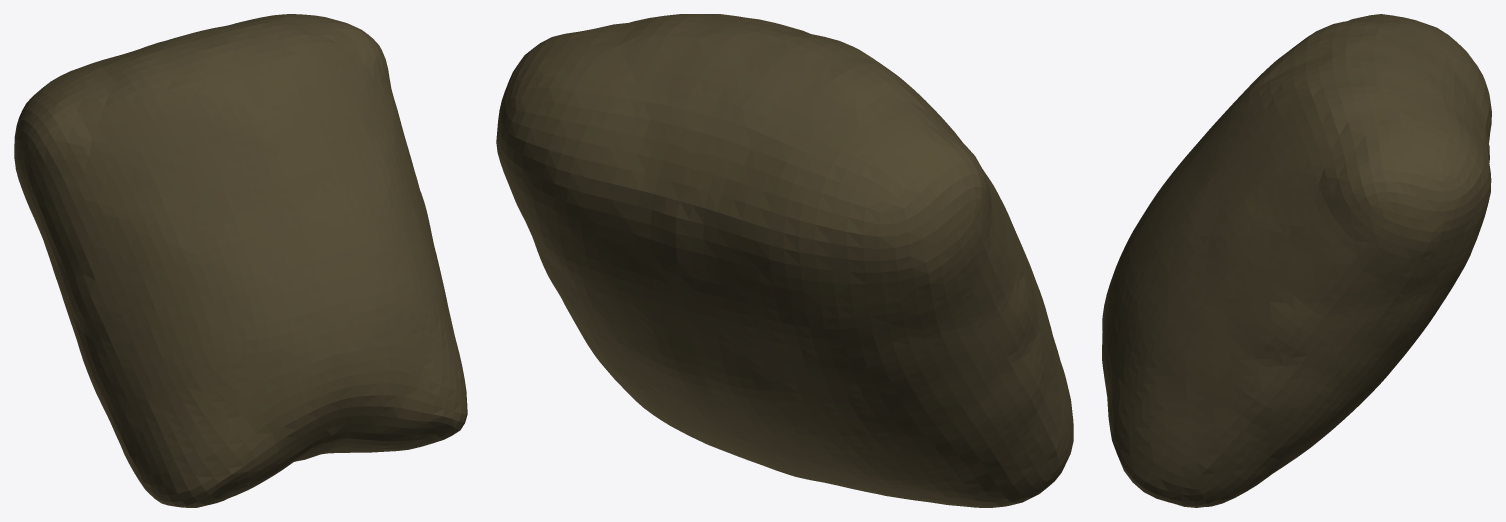
Rendered from middlePelvisModel.obj.
3 views of the same model, side by side, from view 1: azimuth 30°, elevation 25°; view 2: azimuth 150°, elevation 25°; view 3: azimuth 270°, elevation 25° (orthographic). The views are drawn at different scales.
Parts seen in each view (by area): view 1: grp1; view 2: grp1; view 3: grp1.
Boxes of the visible parts, box(x1,y1,x2,y2) form: grp1: box(14, 14, 467, 507); grp1: box(496, 14, 1073, 507); grp1: box(1102, 14, 1491, 507).
Bounding box in the file's own units: 31.55 × 32.2 × 28.67.
